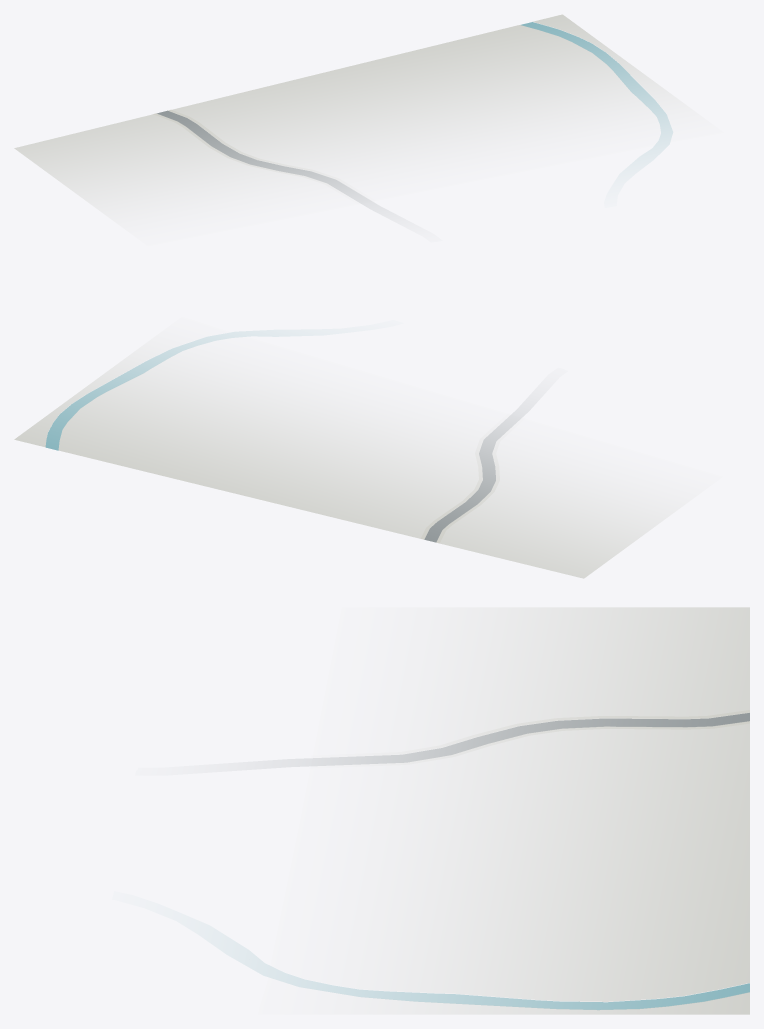
The picture shows the model from 3 angles, top to bottom: view 1: azimuth 30°, elevation 25°; view 2: azimuth 150°, elevation 25°; view 3: azimuth 270°, elevation 25°; orthographic projection. The views are drawn at different scales.
Visible parts, largest first — view 1: city; view 2: city; view 3: city.
Part boxes in pixels (x1,y1,x2,y2): city: (14, 14, 684, 218); city: (14, 331, 682, 578); city: (239, 607, 749, 1014).
Bounding box in the file's own units: 500 × 0.4 × 382.
